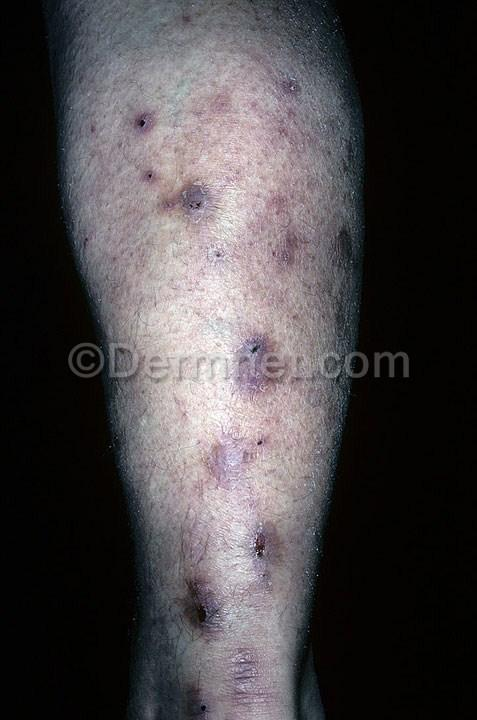Eczema: (220, 314, 304, 400), (243, 189, 314, 288), (89, 260, 168, 346), (154, 569, 236, 643), (192, 410, 276, 481), (165, 155, 227, 239), (160, 489, 226, 566), (109, 203, 178, 276), (262, 69, 318, 155), (193, 78, 259, 144), (114, 89, 180, 154), (216, 639, 272, 702), (313, 207, 361, 280), (162, 665, 218, 720), (193, 243, 245, 299), (241, 510, 289, 567), (161, 380, 211, 431), (313, 291, 362, 341), (224, 30, 271, 82), (323, 134, 367, 189), (304, 391, 349, 443), (123, 152, 172, 198), (250, 561, 291, 614), (159, 10, 210, 46), (72, 109, 115, 150)
